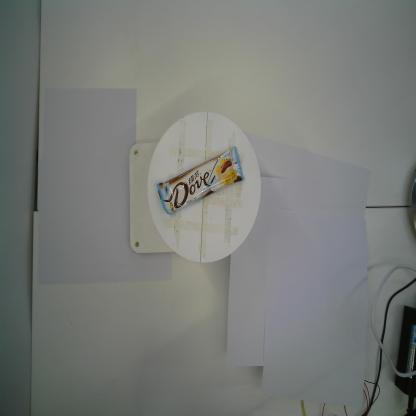Chocolate: (156, 146, 245, 216)
